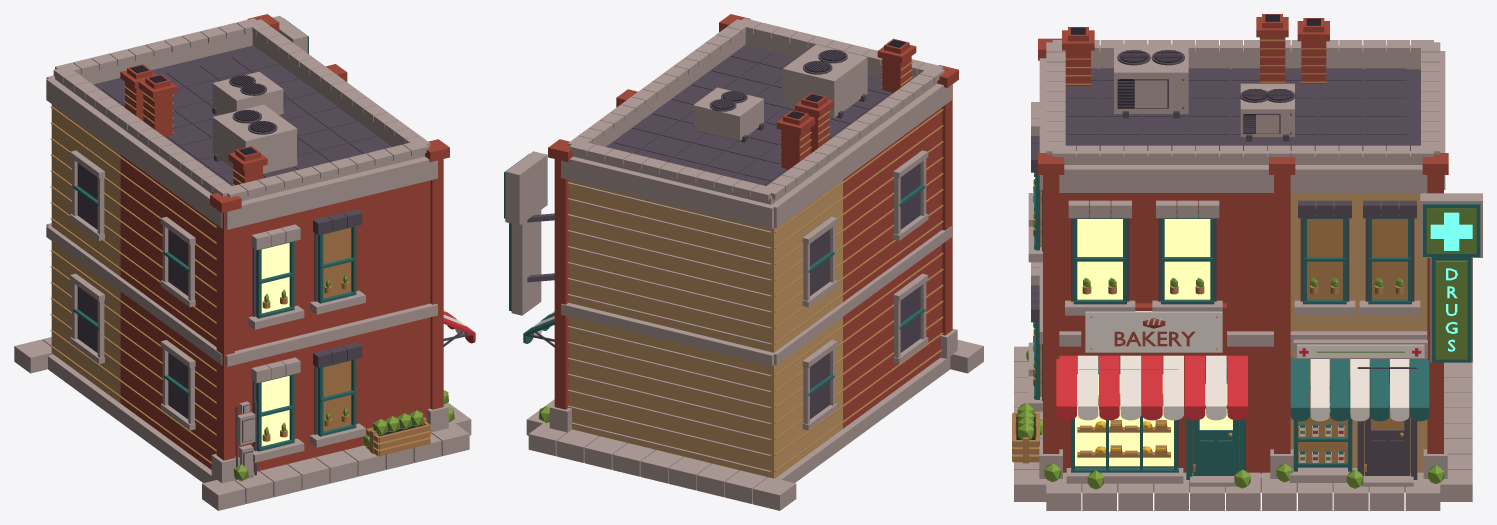
The picture shows the model from 3 angles, left to right: view 1: azimuth 30°, elevation 25°; view 2: azimuth 150°, elevation 25°; view 3: azimuth 270°, elevation 25°; orthographic projection. The views are drawn at different scales.
Parts seen in each view (by area): view 1: body_pal_brick, body_pal_sidewalk, roof_pal_sidewalk, roof_pal_asphalt, body_pal_windowGlow, body_pal_woodWarm, body_pal_asphalt, body_pal_backpackTeal, roof_pal_brick, body_emi_windowGlow, body_pal_foliage, roof_pal_uiDark; view 2: body_pal_windowGlow, body_pal_sidewalk, body_pal_brick, roof_pal_sidewalk, roof_pal_asphalt, body_pal_woodWarm, body_pal_asphalt, roof_pal_brick, body_pal_backpackTeal, roof_pal_uiDark; view 3: body_pal_sidewalk, body_pal_brick, roof_pal_sidewalk, roof_pal_asphalt, body_pal_picketWhite, body_pal_backpackTeal, body_emi_windowGlow, body_pal_woodWarm, body_pal_windowGlow, body_pal_survivorRed, body_pal_asphalt, roof_pal_brick (+7 smaller).
Part boxes in pixels (<box>): body_pal_brick: <box>120,14,449,471</box>; body_pal_sidewalk: <box>14,15,471,510</box>; roof_pal_sidewalk: <box>53,18,430,200</box>; roof_pal_asphalt: <box>93,45,391,185</box>; body_pal_windowGlow: <box>51,104,120,403</box>; body_pal_woodWarm: <box>50,106,430,464</box>; body_pal_asphalt: <box>77,163,471,479</box>; body_pal_backpackTeal: <box>73,18,356,451</box>; roof_pal_brick: <box>120,64,267,185</box>; body_emi_windowGlow: <box>261,242,289,446</box>; body_pal_foliage: <box>233,274,454,481</box>; roof_pal_uiDark: <box>130,65,297,157</box>; body_pal_windowGlow: <box>568,180,842,478</box>; body_pal_sidewalk: <box>505,83,983,510</box>; body_pal_brick: <box>548,14,958,428</box>; roof_pal_sidewalk: <box>567,18,944,204</box>; roof_pal_asphalt: <box>606,44,893,185</box>; body_pal_woodWarm: <box>774,109,943,471</box>; body_pal_asphalt: <box>527,163,920,419</box>; roof_pal_brick: <box>776,38,916,169</box>; body_pal_backpackTeal: <box>504,154,925,395</box>; roof_pal_uiDark: <box>711,40,905,118</box>; body_pal_sidewalk: <box>1014,51,1482,510</box>; body_pal_brick: <box>1038,38,1448,473</box>; roof_pal_sidewalk: <box>1046,40,1440,164</box>; roof_pal_asphalt: <box>1065,50,1420,150</box>; body_pal_picketWhite: <box>1077,311,1424,462</box>; body_pal_backpackTeal: <box>1034,172,1480,479</box>; body_emi_windowGlow: <box>1075,219,1210,466</box>; body_pal_woodWarm: <box>1012,185,1407,467</box>; body_pal_windowGlow: <box>1290,193,1427,472</box>; body_pal_survivorRed: <box>1056,348,1421,460</box>; body_pal_asphalt: <box>1031,136,1417,479</box>; roof_pal_brick: <box>1062,14,1329,86</box>.
Bounding box in the file's own units: 7.39 × 8.55 × 9.7.
